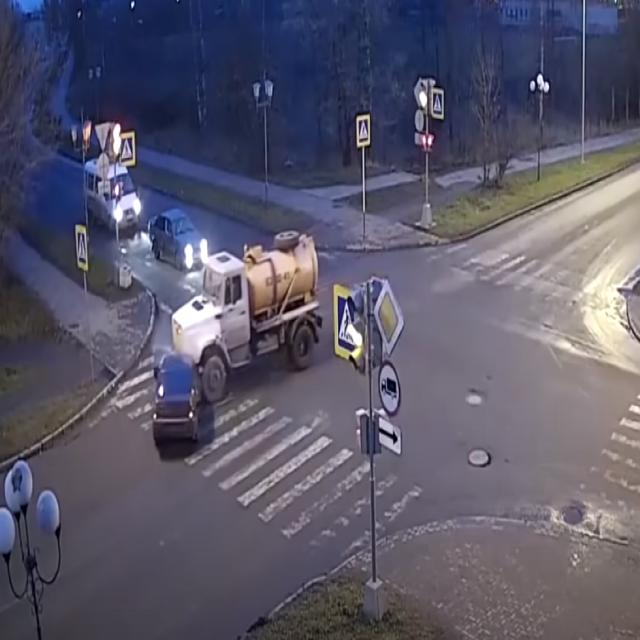accident: (130, 248, 311, 508)
